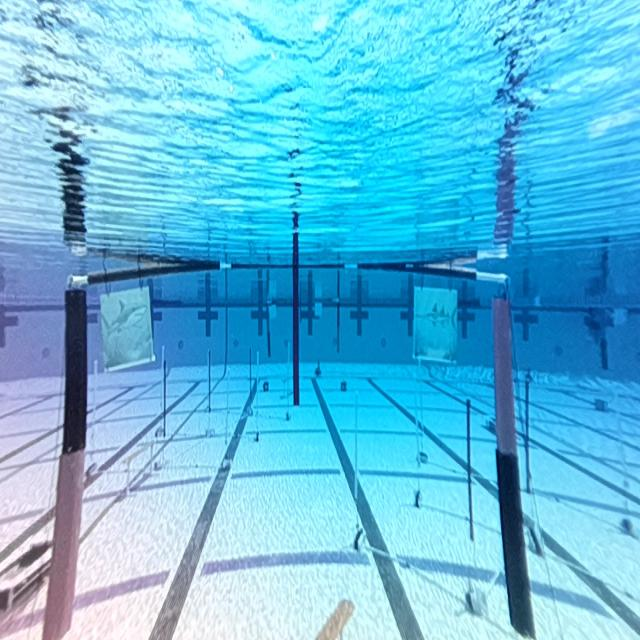pointed_nose: (416, 298, 463, 335)
round_nose: (99, 292, 158, 348)
